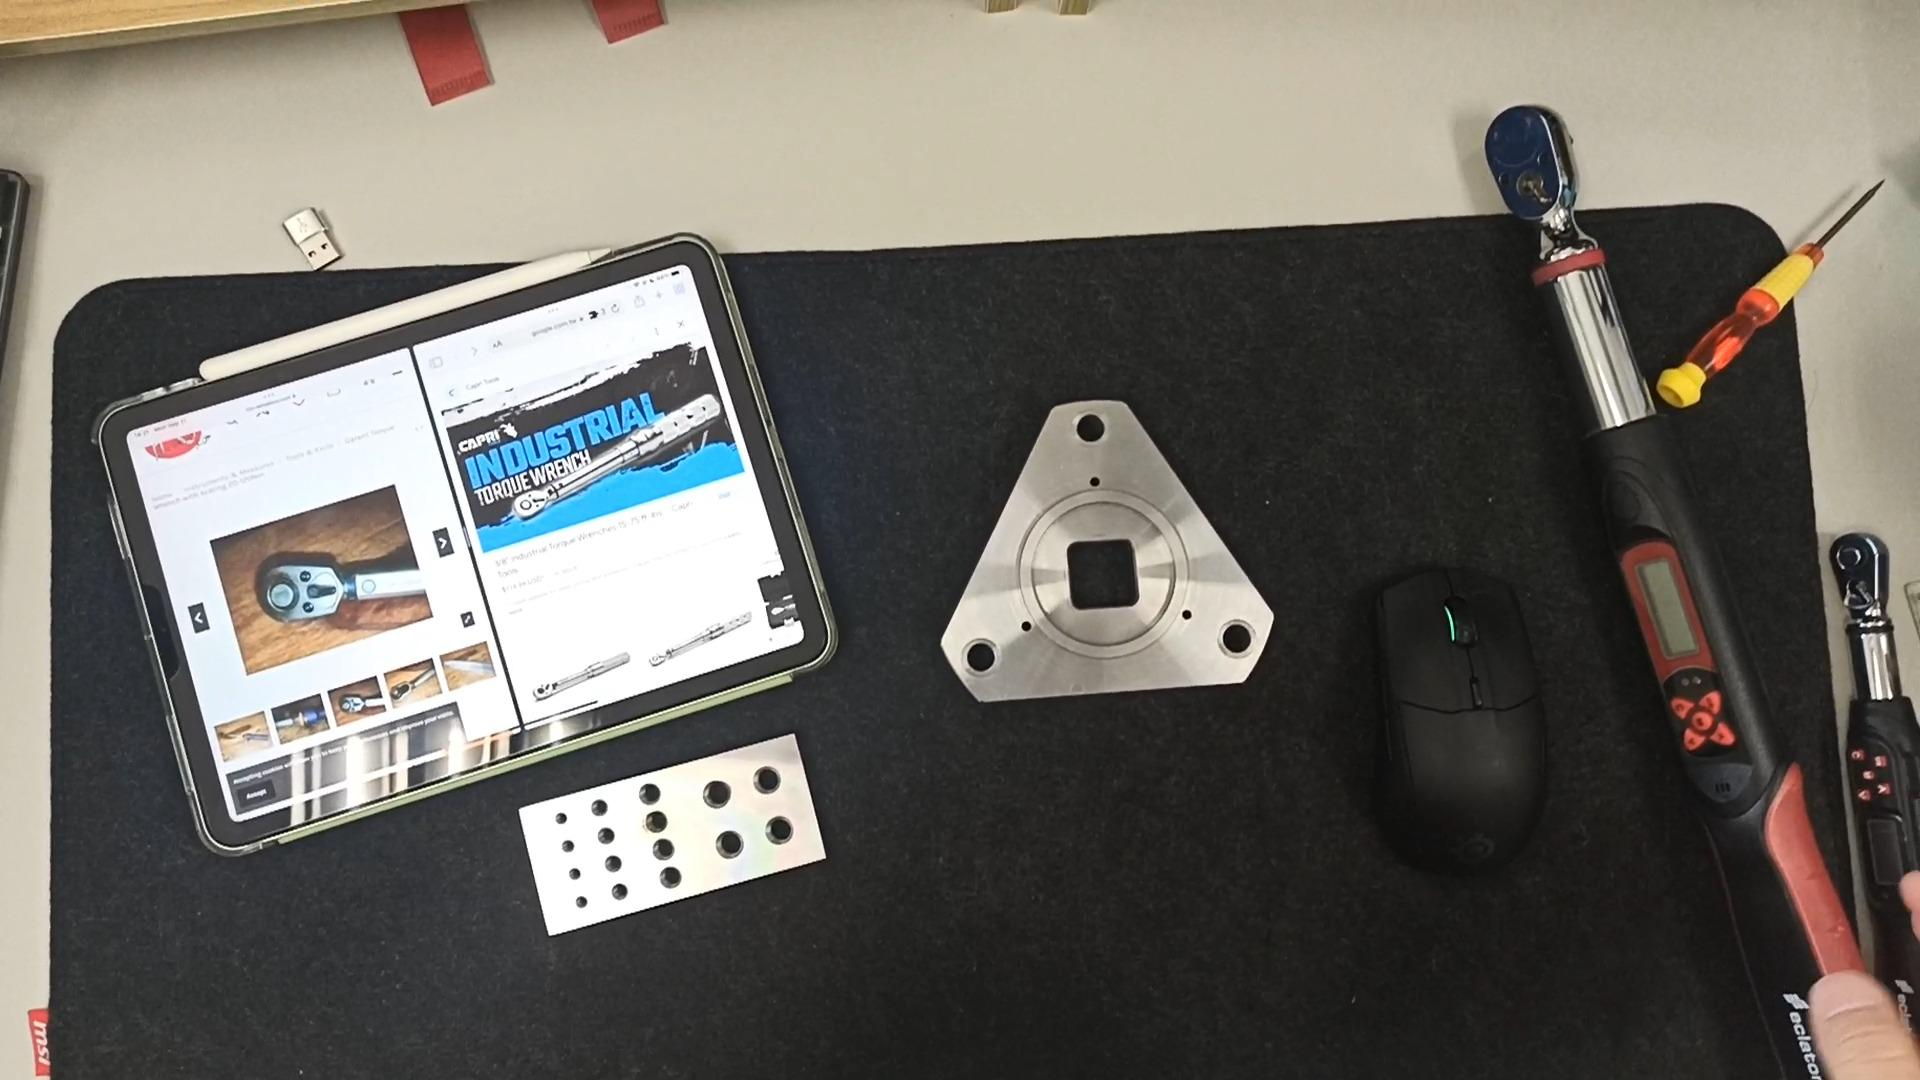Tool: (1472, 103, 1594, 262), (1828, 527, 1895, 624), (258, 563, 345, 621), (512, 488, 547, 518)
hole: (956, 637, 1004, 686), (1216, 618, 1258, 663), (1071, 409, 1113, 446), (746, 761, 783, 799), (699, 779, 736, 815), (761, 814, 795, 849), (709, 828, 744, 861), (638, 782, 670, 811), (659, 865, 691, 891), (654, 840, 684, 865), (646, 811, 676, 836), (588, 798, 615, 822), (593, 825, 620, 848), (607, 882, 632, 903), (601, 856, 626, 876), (553, 807, 576, 827), (571, 891, 593, 911), (566, 866, 587, 885), (562, 841, 582, 858)
